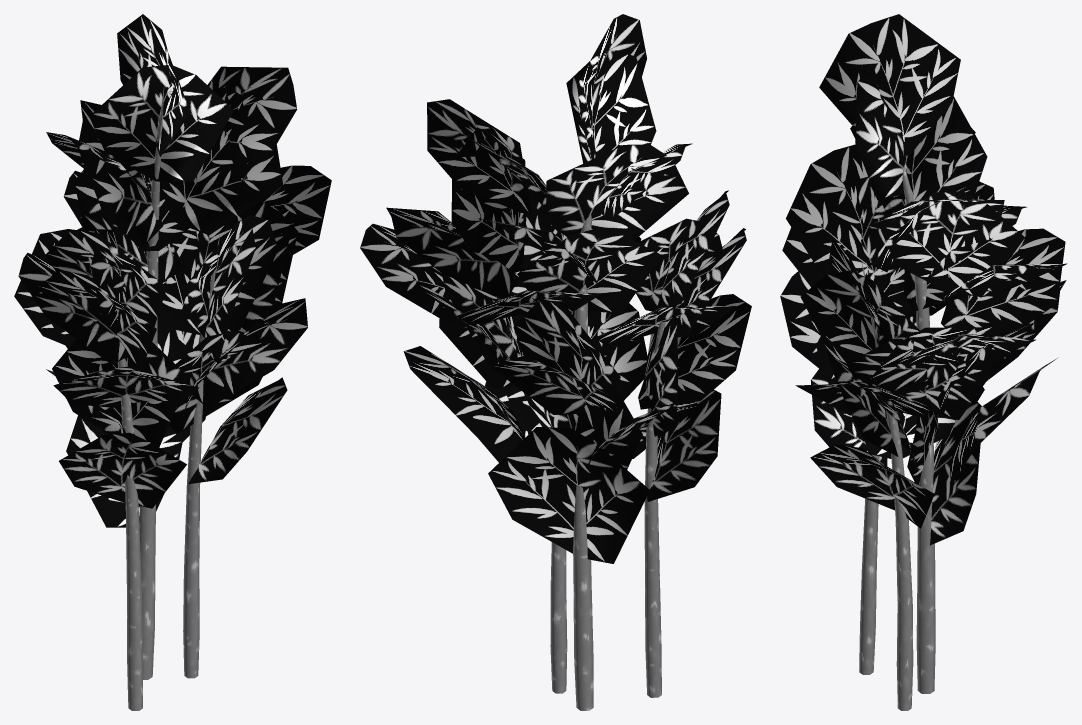
File: P_BambooSaplingClump2.obj
3 views of the same model, side by side, from view 1: azimuth 30°, elevation 25°; view 2: azimuth 150°, elevation 25°; view 3: azimuth 270°, elevation 25° (orthographic).
Size of the model in its own units: 5.03 by 10.06 by 3.91.
